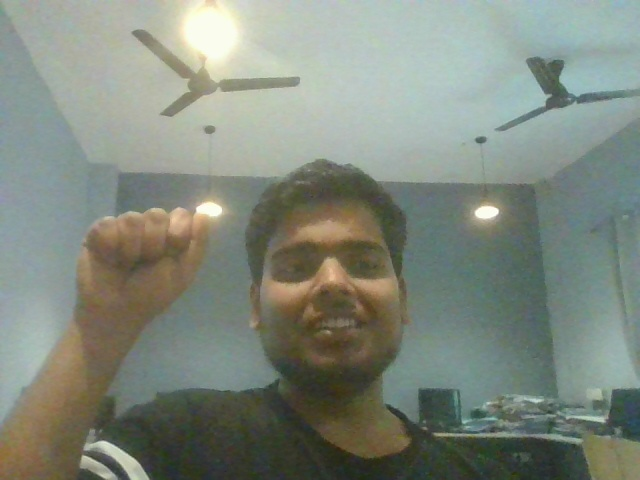A: (50, 173, 234, 381)
